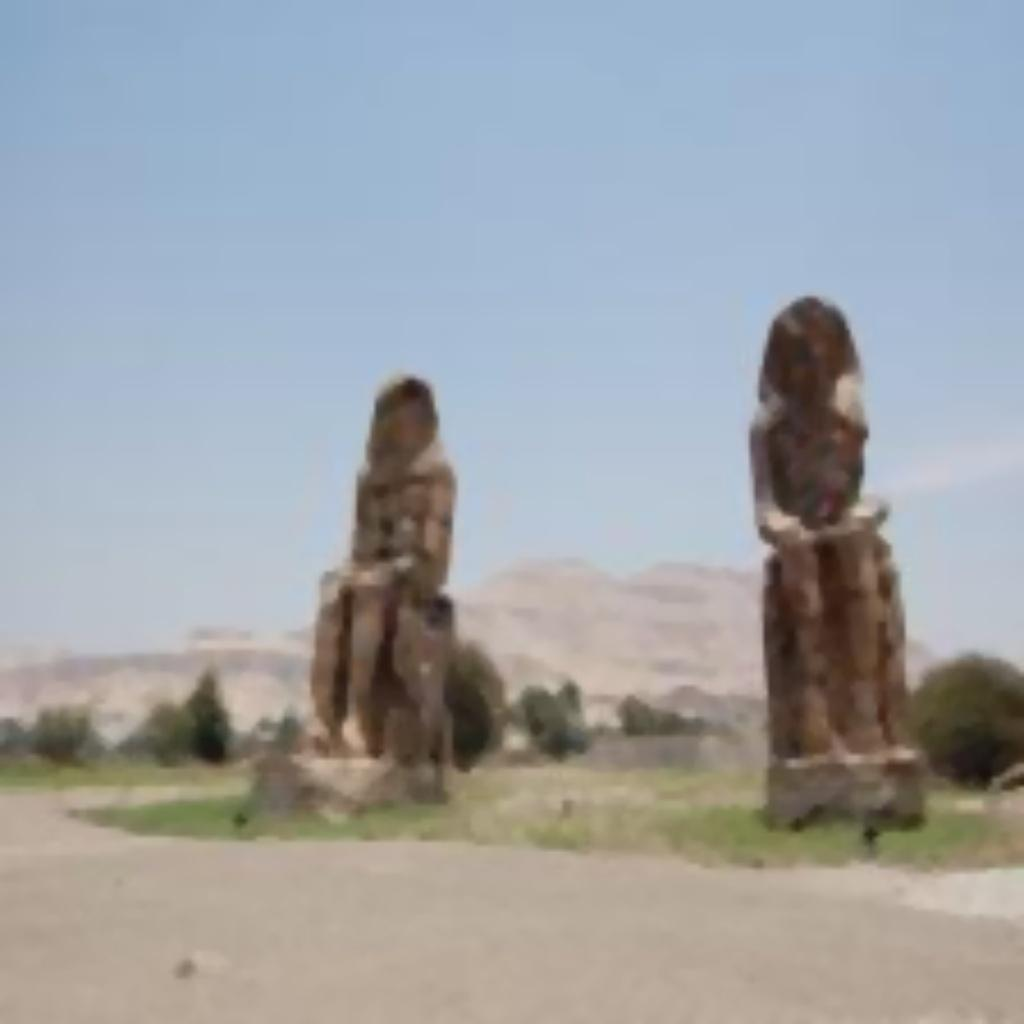Colossoi of Memnon: (256, 361, 512, 814), (740, 288, 938, 837)
